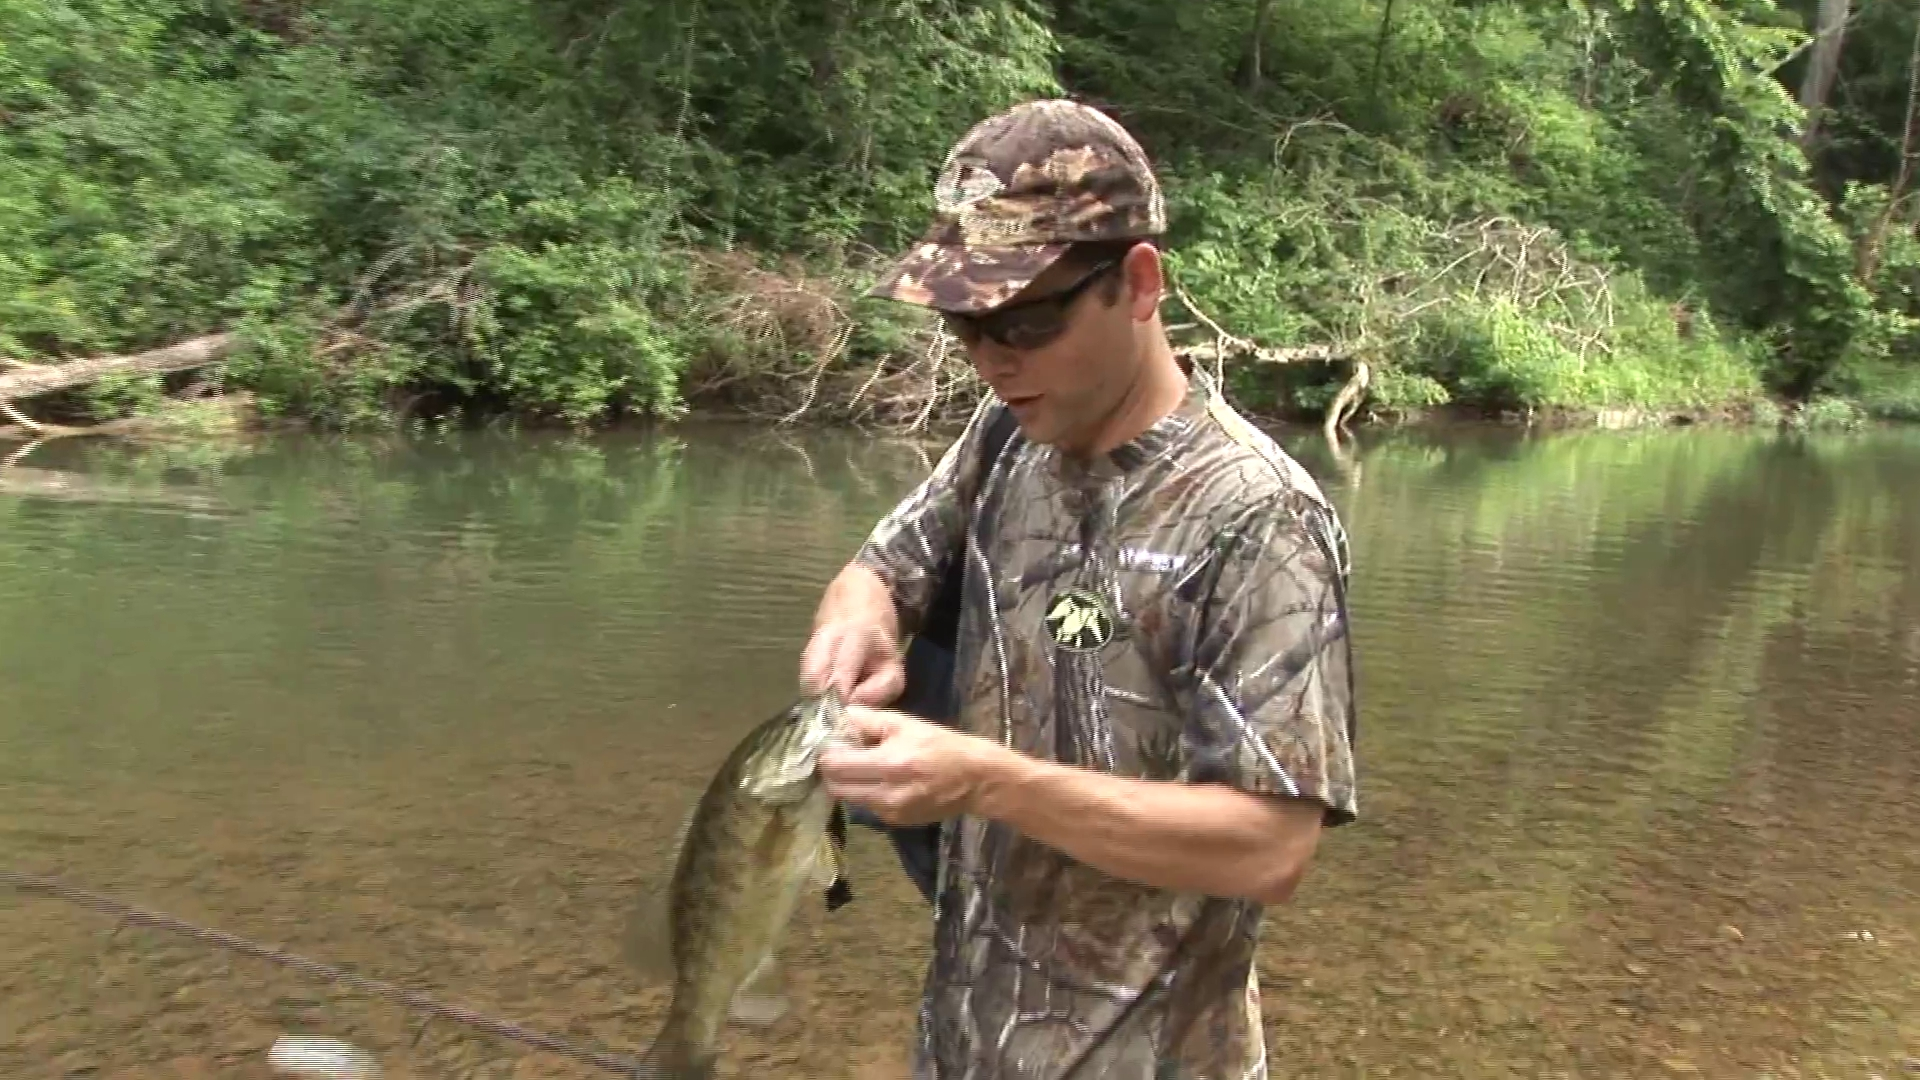person: (799, 97, 1357, 1080)
